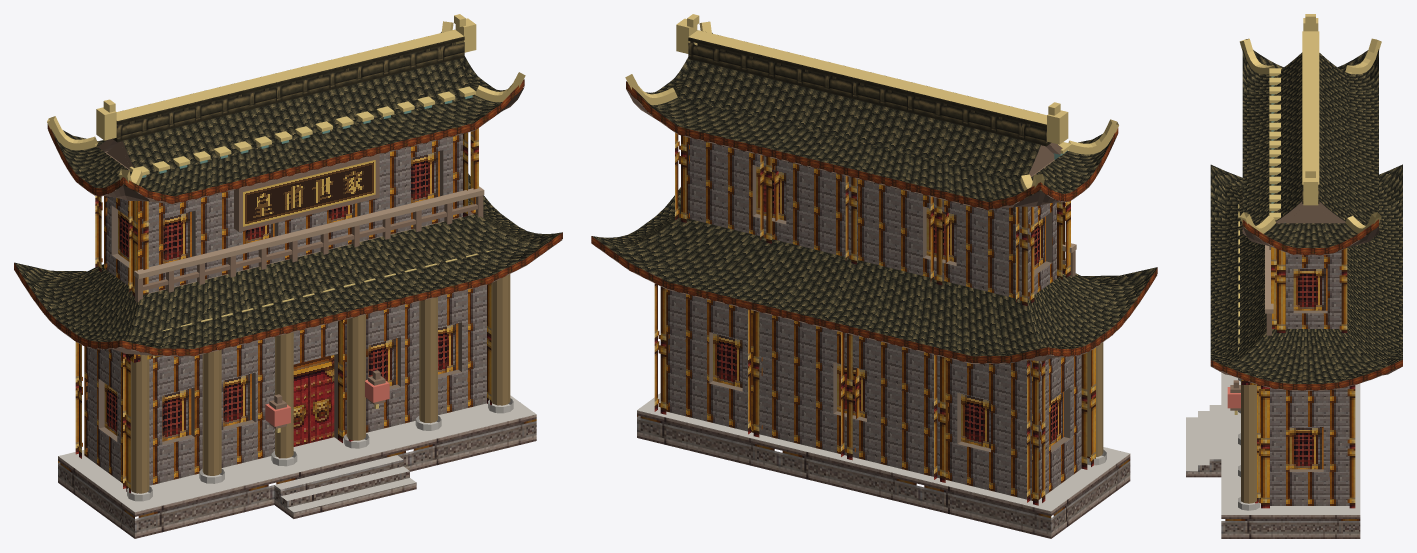
The model's file is g_hwangbo_house_red.glb.
The picture shows the model from 3 angles, left to right: view 1: azimuth 30°, elevation 25°; view 2: azimuth 150°, elevation 25°; view 3: azimuth 270°, elevation 25°; orthographic projection. The views are drawn at different scales.
Parts seen in each view (by area): view 1: roof, plaster, col, stone, stonetop, win, eave, ridge, wood, ridgeend, post, plaque (+6 smaller); view 2: plaster, roof, post, stone, eave, ridge, win, ridgeend, stonetop, reveal, under, col (+1 smaller); view 3: roof, plaster, stonetop, ridgeend, post, stone, win, eave, col, gold, wood, under (+1 smaller).
Part boxes in pixels (x1=…): roof: x1=14, y1=32, x2=562, y2=348; plaster: x1=84, y1=133, x2=486, y2=485; col: x1=130, y1=274, x2=510, y2=493; stone: x1=58, y1=414, x2=536, y2=538; stonetop: x1=58, y1=395, x2=535, y2=512; win: x1=104, y1=151, x2=458, y2=441; eave: x1=14, y1=79, x2=562, y2=356; ridge: x1=112, y1=36, x2=464, y2=142; wood: x1=97, y1=139, x2=483, y2=428; ridgeend: x1=47, y1=14, x2=525, y2=185; post: x1=75, y1=128, x2=491, y2=493; plaque: x1=243, y1=160, x2=375, y2=226; plaster: x1=666, y1=137, x2=1081, y2=500; roof: x1=592, y1=33, x2=1157, y2=356; post: x1=654, y1=133, x2=1095, y2=505; stone: x1=637, y1=410, x2=1130, y2=538; eave: x1=591, y1=81, x2=1157, y2=363; ridge: x1=688, y1=37, x2=1051, y2=146; win: x1=713, y1=166, x2=1063, y2=448; ridgeend: x1=625, y1=14, x2=1118, y2=194; stonetop: x1=637, y1=393, x2=1129, y2=511; reveal: x1=709, y1=165, x2=1070, y2=452; under: x1=592, y1=89, x2=1157, y2=363; col: x1=1087, y1=342, x2=1103, y2=456; roof: x1=1210, y1=49, x2=1402, y2=383; plaster: x1=1270, y1=250, x2=1349, y2=505; stonetop: x1=1186, y1=372, x2=1360, y2=514; ridgeend: x1=1239, y1=14, x2=1381, y2=233; post: x1=1255, y1=247, x2=1355, y2=508; stone: x1=1186, y1=459, x2=1360, y2=538; win: x1=1289, y1=268, x2=1327, y2=469; eave: x1=1210, y1=219, x2=1402, y2=390; col: x1=1241, y1=379, x2=1256, y2=503; gold: x1=1234, y1=68, x2=1281, y2=414; wood: x1=1230, y1=201, x2=1345, y2=410; under: x1=1210, y1=226, x2=1400, y2=390.
Bounding box in the file's own units: 86.83 × 73.97 × 40.69.
Materials: 20 (10 with a texture image).
